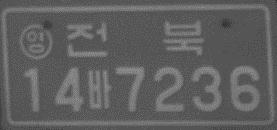1: (20, 65, 48, 112)
2: (153, 65, 184, 112)
3: (190, 64, 222, 114)
4: (53, 66, 83, 112)
6: (229, 64, 261, 113)
7: (114, 65, 145, 112)
바: (86, 68, 112, 110)
영: (18, 23, 52, 60)
전북_D: (66, 19, 204, 59)
